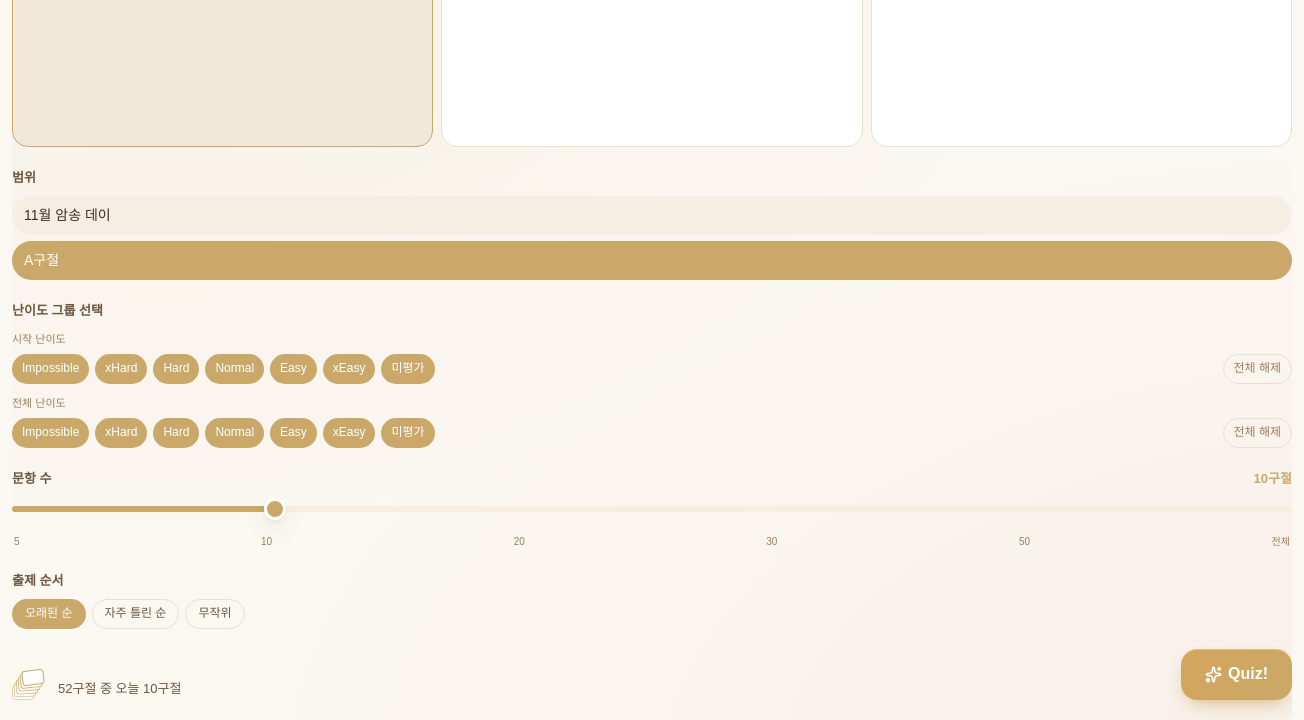
QuizScopePicker — 문항 수 › keeps 전체 meaning 전체 after the scope shrinks
(page scrolled)
Set the slider labelled "문항 수" to "5": (1284, 509) [12, 497, 1292, 521]
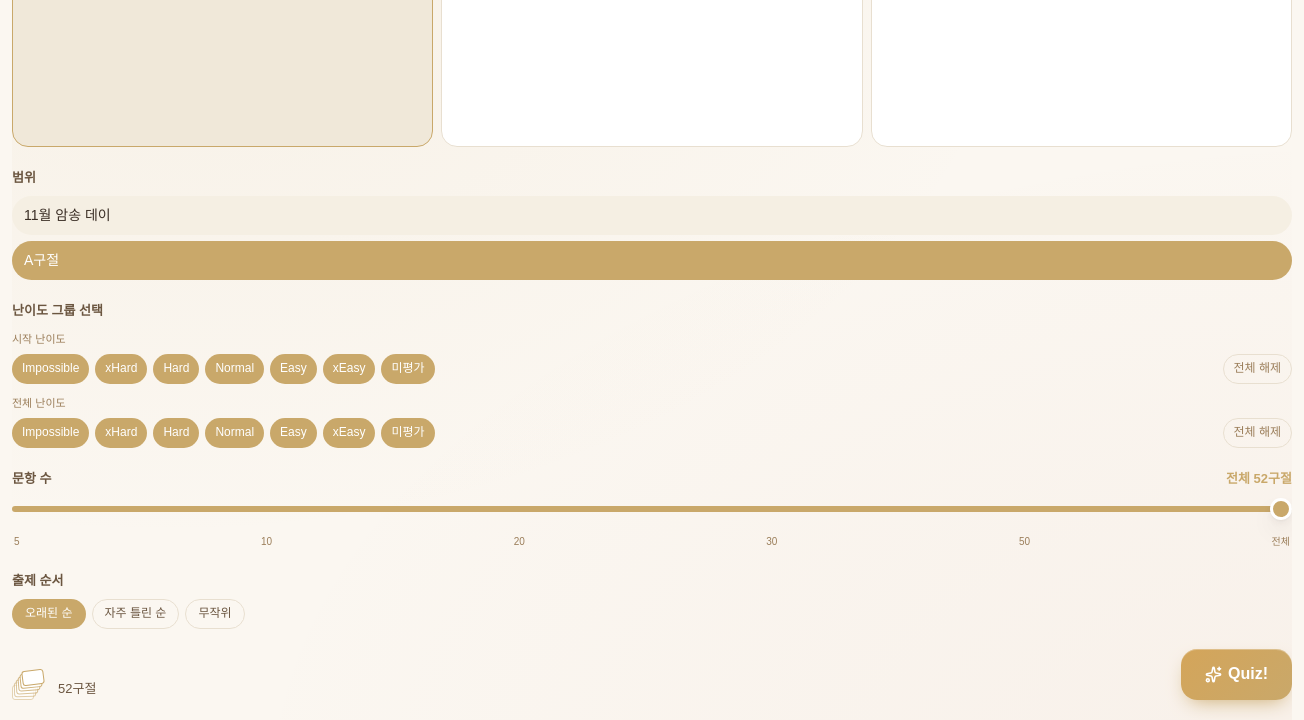
Expected: the text with test id "session-size-value" reads "전체 52구절", [1226, 471, 1292, 486]
Click the button "xHard" below "시작 난이도": click(121, 369) [95, 354, 147, 384]
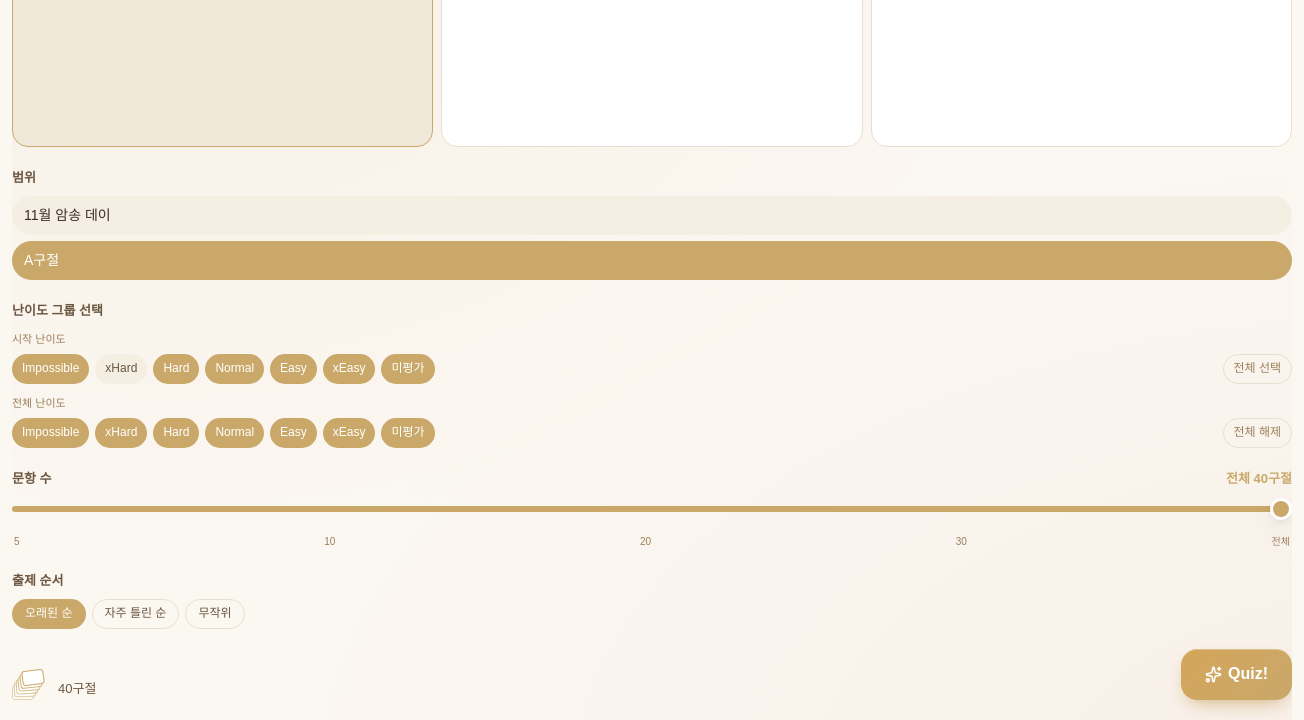
Expected: the text with test id "session-size-value" reads "전체 40구절", [1226, 471, 1292, 486]
Expected: the text "40구절" is shown, [58, 678, 96, 700]
